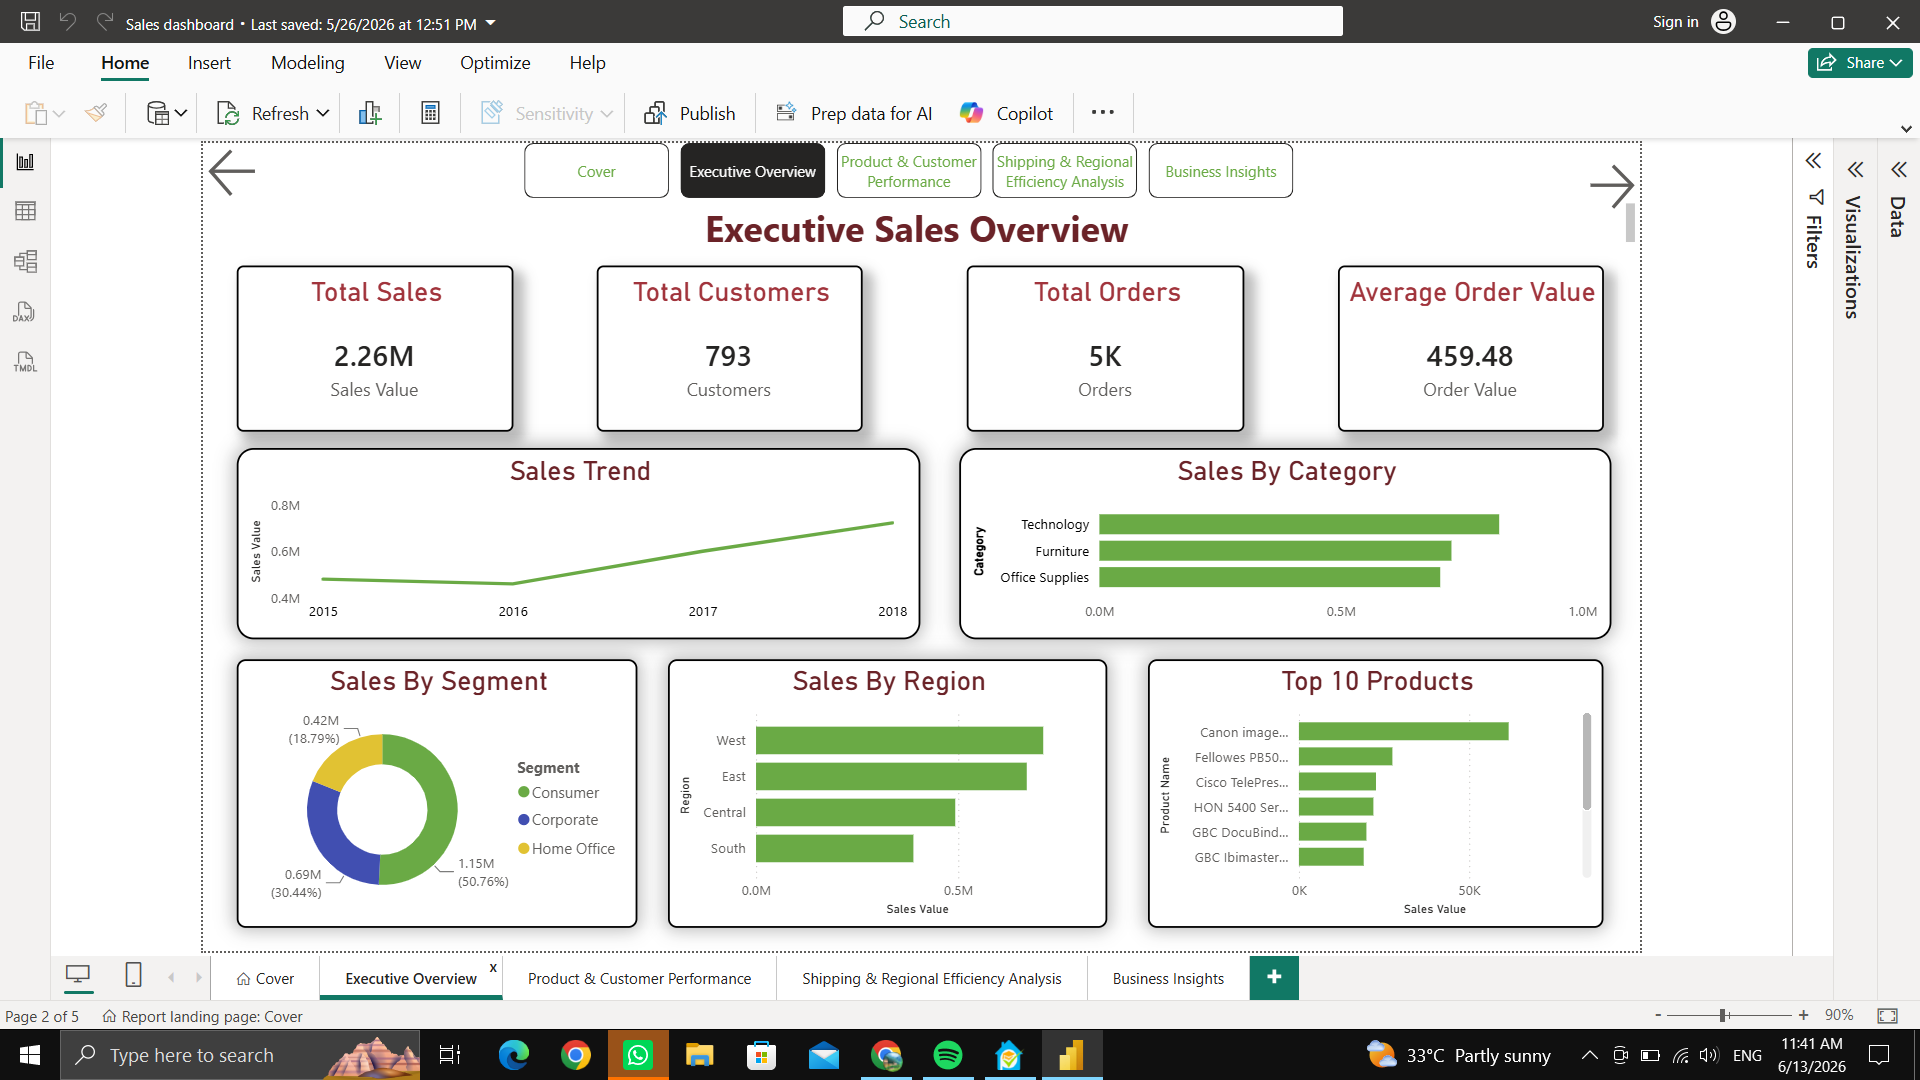

Layout of this report page (visuals, bound fields, positions):
{"tool":"powerbi","page":{"name":"Executive Overview","canvas":[1280,720],"ordinal":1},"visuals":[{"type":"cardVisual","title":"Total Sales","fields":{"Data":["train.Total Sales"]},"box":[30.2,108.6,246.1,148.4],"z":0},{"type":"cardVisual","title":"Total Customers","fields":{"Data":["train.Total Customers"]},"box":[351.1,108.6,236.5,148.4],"z":1000},{"type":"cardVisual","title":"Total Orders","fields":{"Data":["train.Orders"]},"box":[680.4,108.6,247.3,148.4],"z":2000},{"type":"cardVisual","title":"Average Order Value","fields":{"Data":["train.Average Order Value"]},"box":[1011,108.6,236.5,148.4],"z":3000},{"type":"lineChart","title":"Sales Trend","fields":{"Category":["train.Year"],"Y":["train.Sales Value"]},"box":[30.1,271.6,608.9,170.3],"z":4000},{"type":"clusteredBarChart","title":"Sales  By Category","fields":{"Category":["train.Category"],"Y":["train.Sales Value"]},"box":[673.5,271.6,581.1,170.3],"z":5000},{"type":"donutChart","title":"Sales By Segment","fields":{"Y":["train.Sales Value"],"Category":["train.Segment"]},"box":[30.2,459.7,357.1,238.9],"z":6000},{"type":"clusteredBarChart","title":"Sales By Region","fields":{"Y":["train.Sales Value"],"Category":["train.Region"]},"box":[413.8,459.7,390.9,238.9],"z":7000},{"type":"clusteredBarChart","title":"Top 10 Products","fields":{"Category":["train.Product Name"],"Y":["train.Sales Value"]},"box":[842.1,459.7,405.4,238.9],"z":8000},{"type":"textbox","box":[0,49.5,1280,48.3],"z":9000},{"type":"actionButton","box":[1229.4,0,50.7,78.4],"z":10001},{"type":"actionButton","box":[0,0,100.1,53.1],"z":10002},{"type":"pageNavigator","box":[285.9,0,688.9,49.5],"z":10003}]}

Visuals, with their boxes on the page's 1280x720 design canvas (x1, y1, x2, y2). These are canvas units, not pixel positions in the 1920x1080 screenshot, which may show the page scaled, cropped or inside an application window:
"Total Sales" cardVisual: x1=30 y1=109 x2=276 y2=257
"Total Customers" cardVisual: x1=351 y1=109 x2=588 y2=257
"Total Orders" cardVisual: x1=680 y1=109 x2=928 y2=257
"Average Order Value" cardVisual: x1=1011 y1=109 x2=1248 y2=257
"Sales Trend" lineChart: x1=30 y1=272 x2=639 y2=442
"Sales  By Category" clusteredBarChart: x1=674 y1=272 x2=1255 y2=442
"Sales By Segment" donutChart: x1=30 y1=460 x2=387 y2=699
"Sales By Region" clusteredBarChart: x1=414 y1=460 x2=805 y2=699
"Top 10 Products" clusteredBarChart: x1=842 y1=460 x2=1248 y2=699
textbox: x1=0 y1=50 x2=1280 y2=98
actionButton: x1=1229 y1=0 x2=1280 y2=78
actionButton: x1=0 y1=0 x2=100 y2=53
pageNavigator: x1=286 y1=0 x2=975 y2=50
